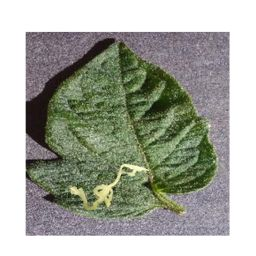liriomyza: (67, 163, 149, 211)
